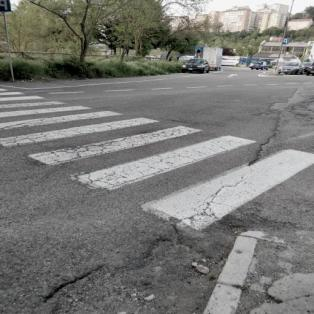Paso de Cebra: (24, 122, 263, 198)
